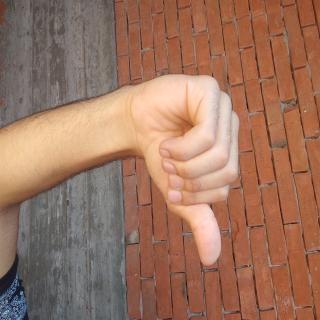WAW: (46, 101, 205, 256)
